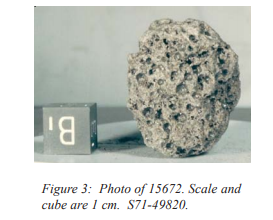Basalt: (115, 7, 246, 161)
